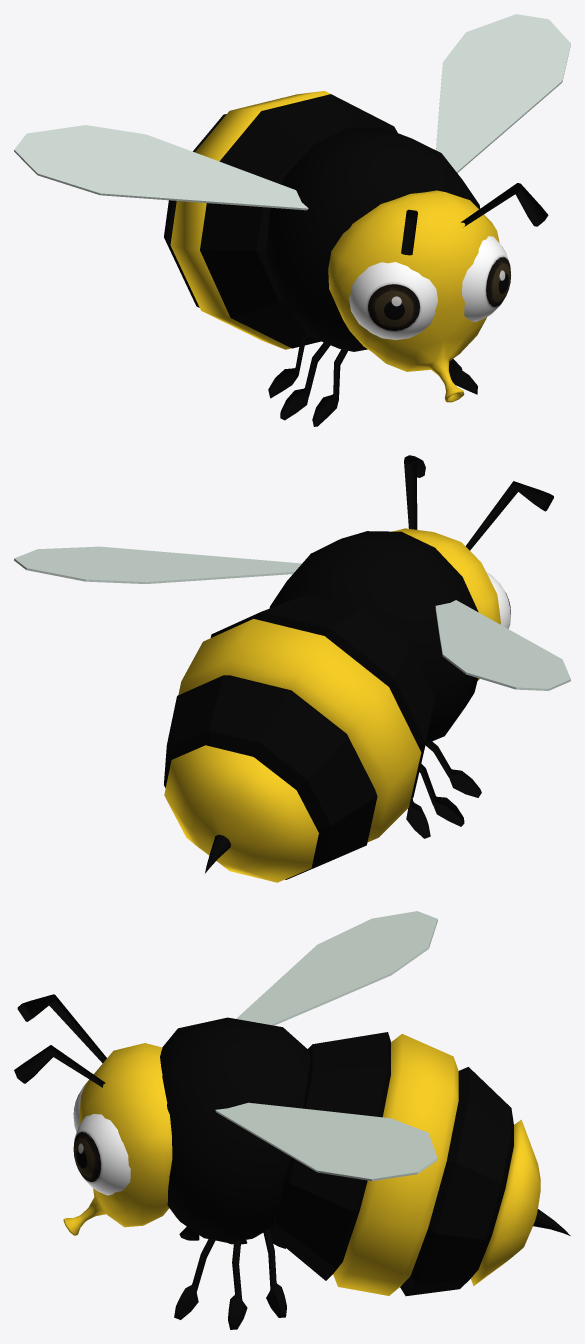
Rendered from bee_test.FBX.
The picture shows the model from 3 angles, top to bottom: view 1: azimuth 30°, elevation 25°; view 2: azimuth 150°, elevation 25°; view 3: azimuth 270°, elevation 25°; orthographic projection.
Parts seen in each view (by area): view 1: group13_pCube11_group012, Line010, Line011; view 2: group13_pCube11_group012, Line011, Line010; view 3: group13_pCube11_group012, Line011, Line010.
Part boxes in pixels (x1,y1,x2,y2): group13_pCube11_group012: [164, 91, 548, 426]; Line010: [14, 125, 308, 210]; Line011: [436, 14, 570, 172]; group13_pCube11_group012: [164, 455, 553, 882]; Line011: [14, 546, 301, 583]; Line010: [435, 600, 570, 690]; group13_pCube11_group012: [14, 994, 570, 1329]; Line011: [215, 1102, 437, 1181]; Line010: [236, 911, 437, 1025].
Size of the model in its own units: 57.18 by 27.42 by 51.53.
4 materials, 1 textured.
